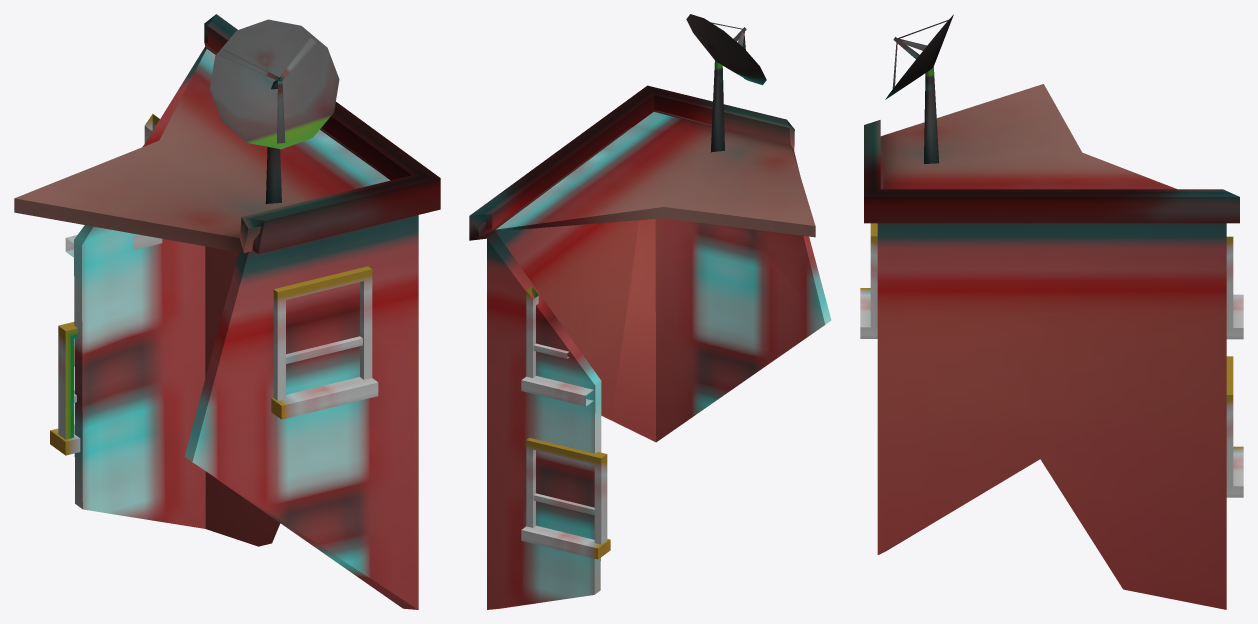
File: B7Broke02.FBX
3 views of the same model, side by side, from view 1: azimuth 30°, elevation 25°; view 2: azimuth 150°, elevation 25°; view 3: azimuth 270°, elevation 25° (orthographic). The views are drawn at different scales.
Visible parts, largest first — view 1: B7Broke02; view 2: B7Broke02; view 3: B7Broke02.
Part boxes in pixels (<box>): B7Broke02: <box>14,14,440,609</box>; B7Broke02: <box>469,14,831,609</box>; B7Broke02: <box>860,14,1243,609</box>.
Size of the model in its own units: 47.06 by 91.69 by 58.35.
